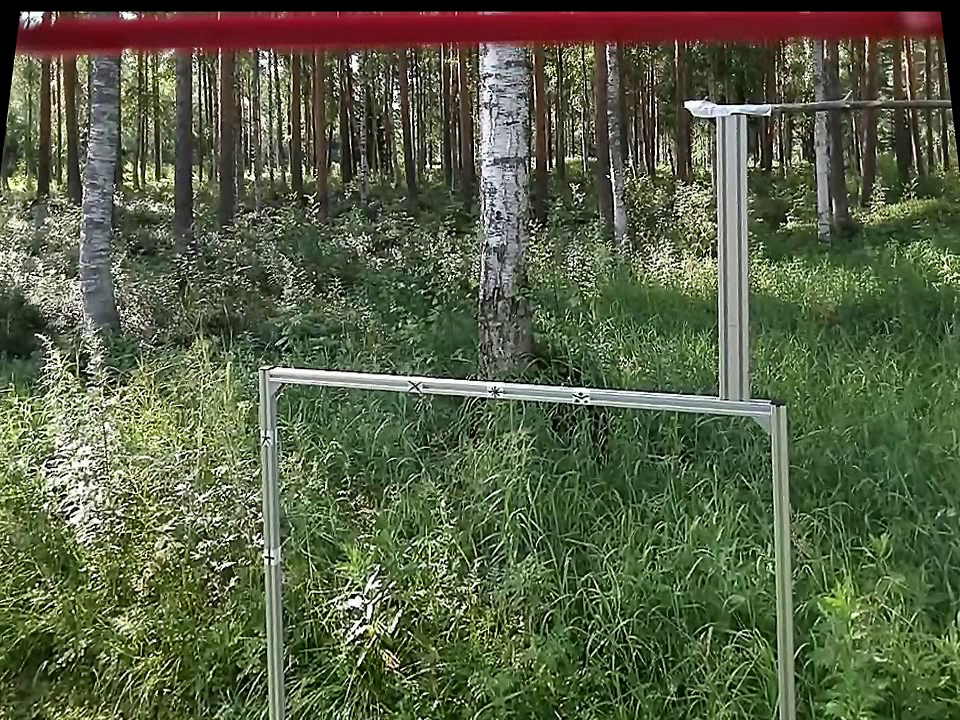aluminum_frame: (257, 358, 770, 421), (706, 117, 761, 400), (761, 394, 808, 717), (253, 356, 291, 717)
branch: (775, 82, 952, 126)
